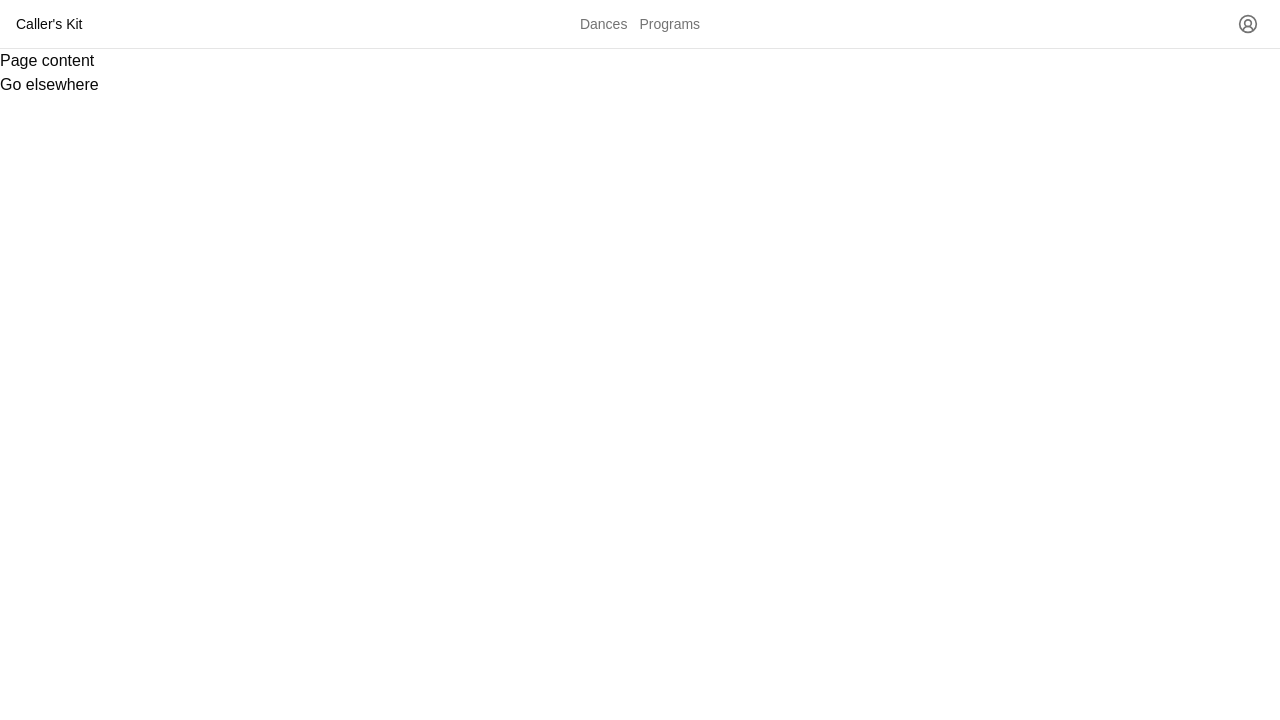
Test: AppShell › completes the navigation when Leave is chosen
Click the link "Go elsewhere": coordinates (49, 84) left=0, top=76, right=99, bottom=93
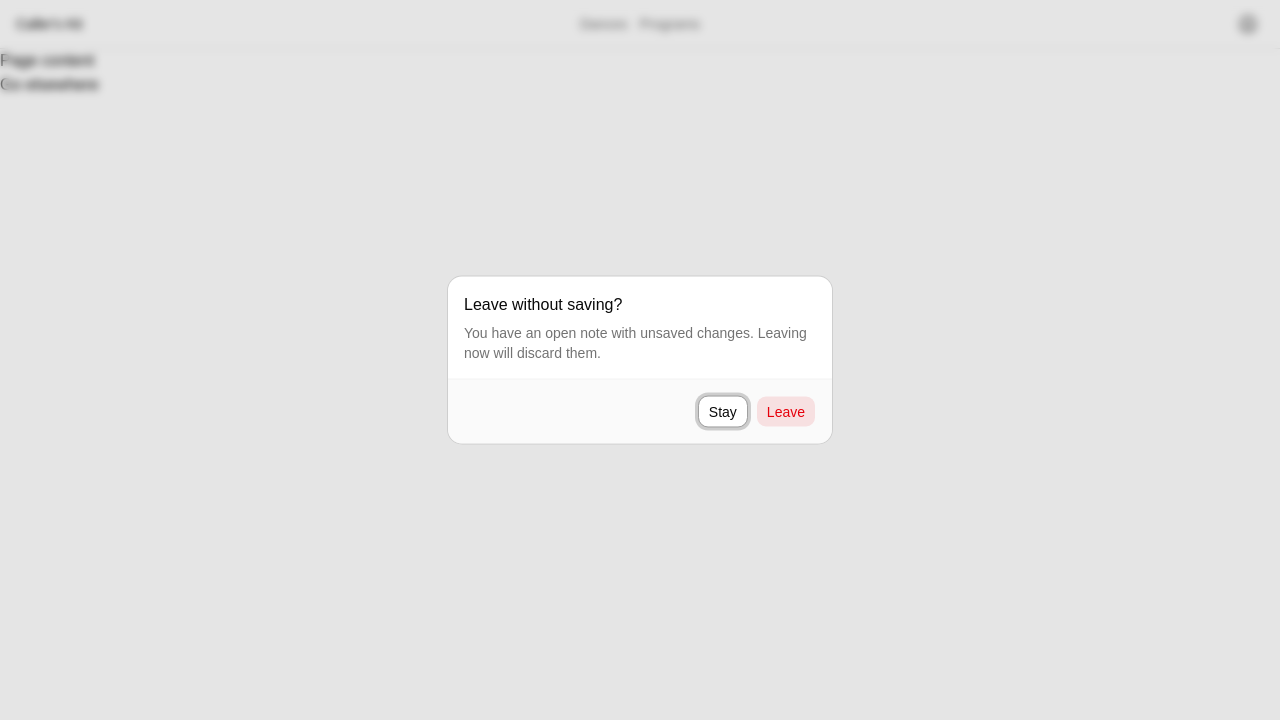
Click the button "Leave": coordinates (786, 412) left=756, top=396, right=816, bottom=428
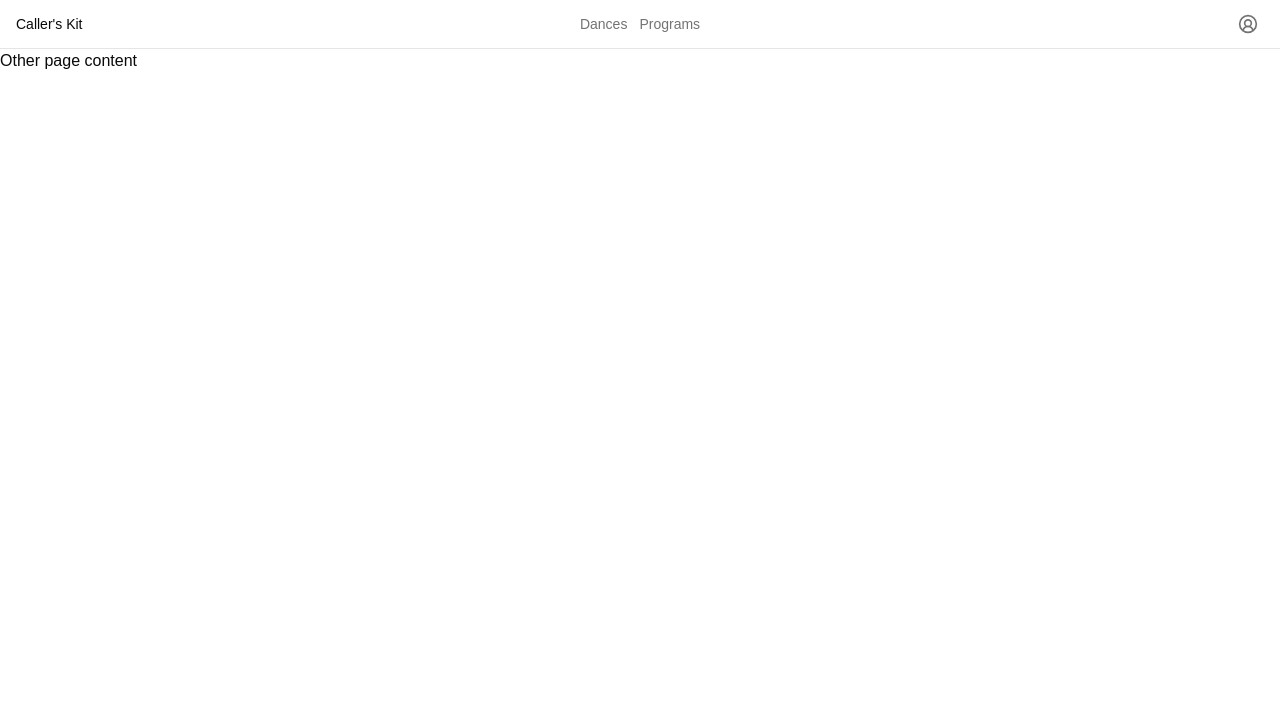
Now the text "Other page content" is shown, box left=0, top=52, right=137, bottom=69
Now the heading "Leave without saving?" is gone
